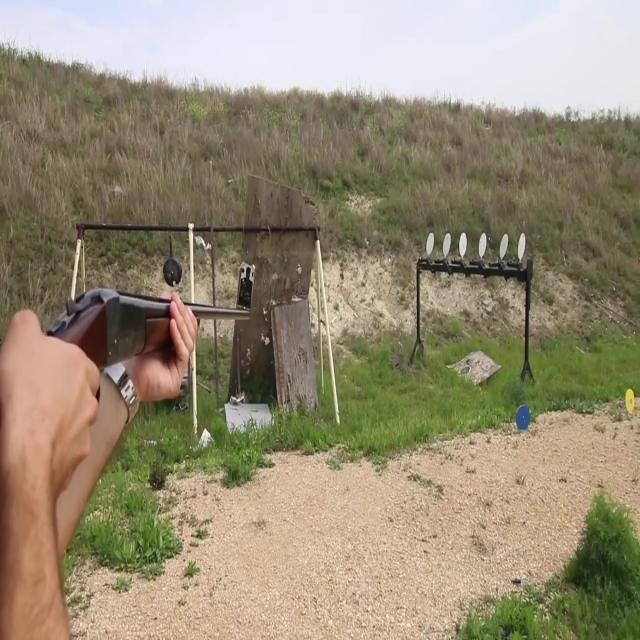Weapon: (3, 252, 270, 478)
